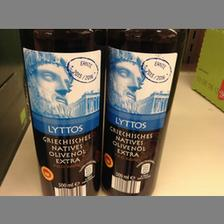Oel: (17, 27, 103, 195), (102, 28, 186, 196)
